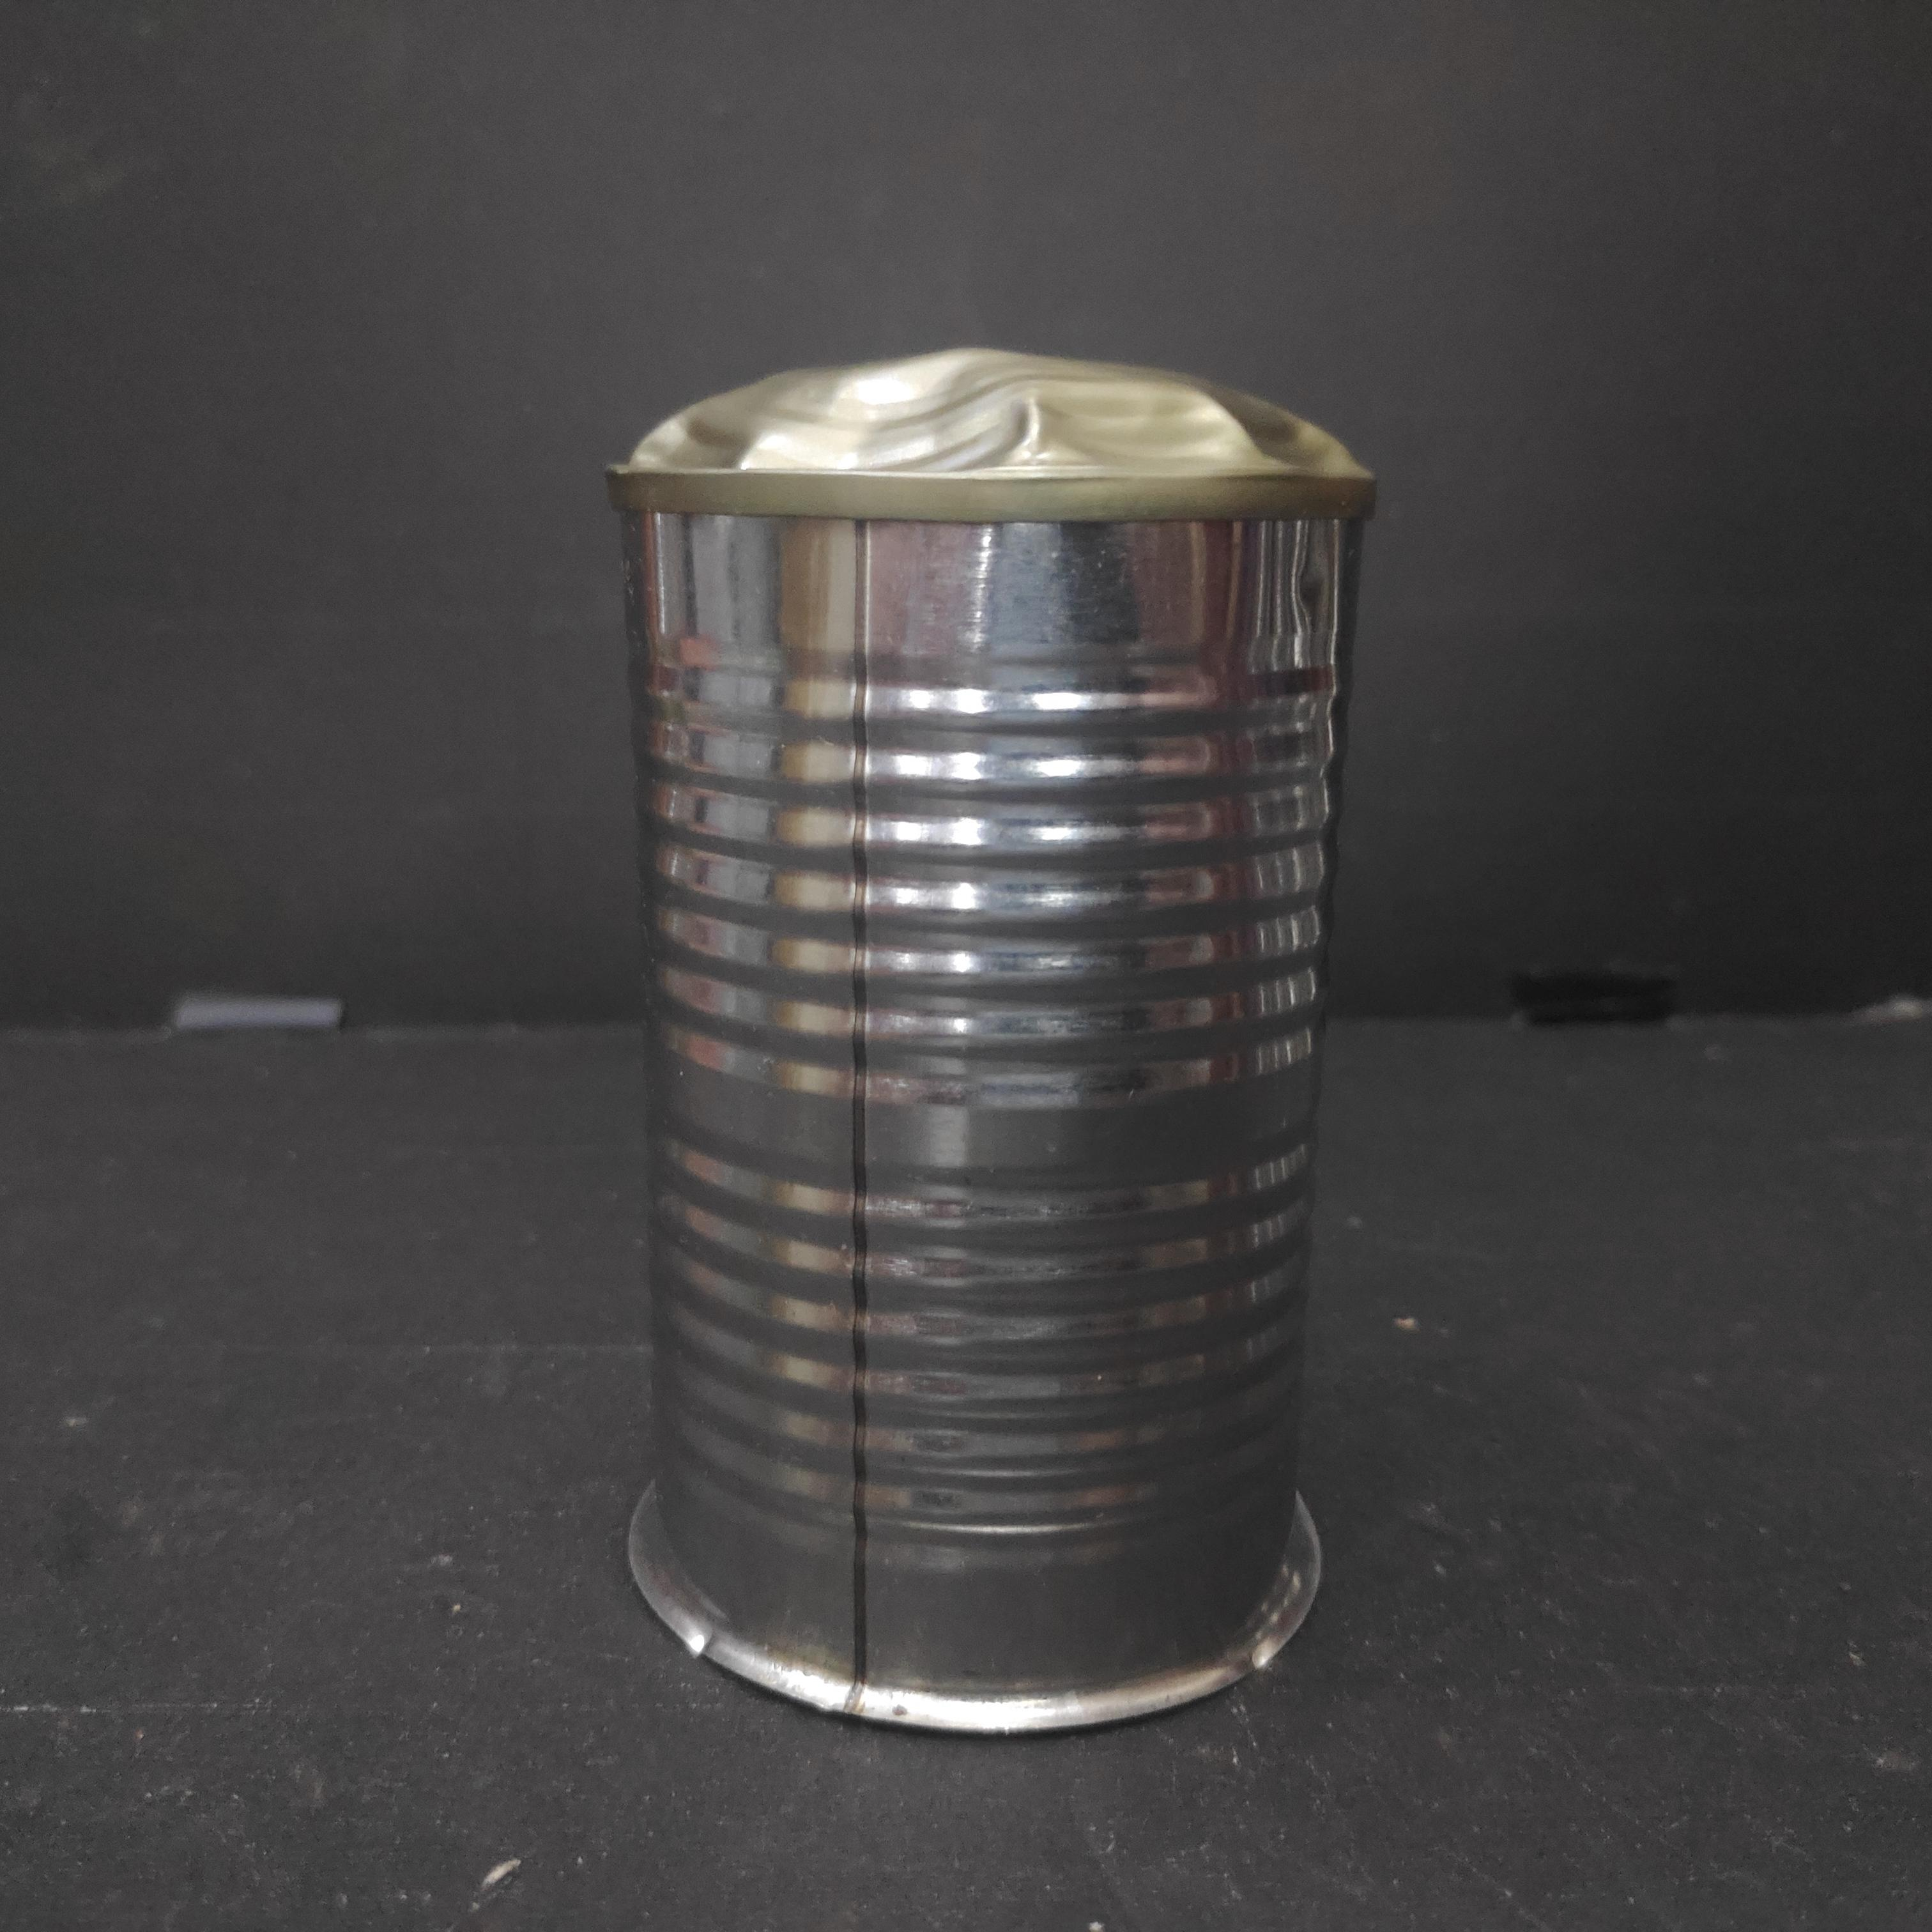Critical Defect: (605, 333, 1378, 1745)
